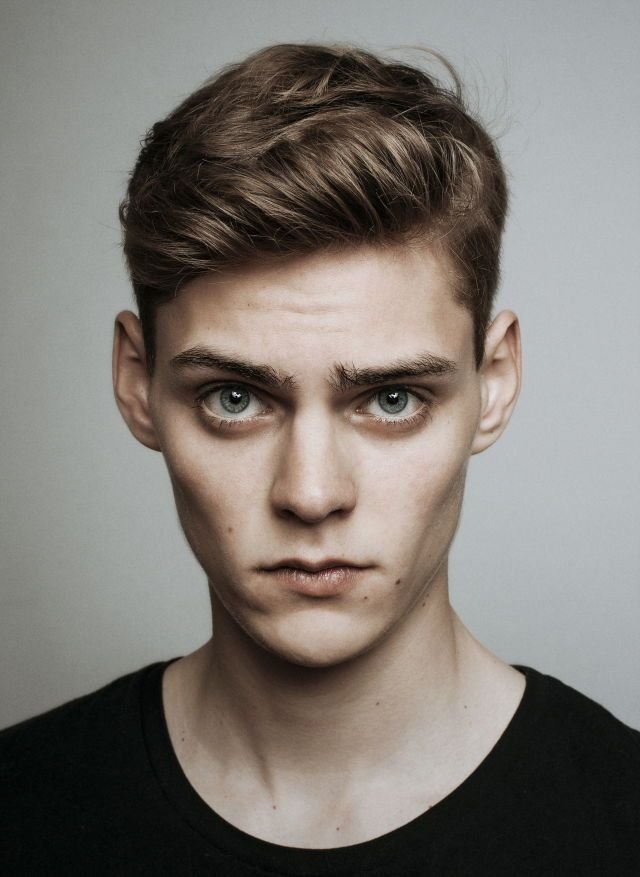bare: (161, 440, 468, 661)
